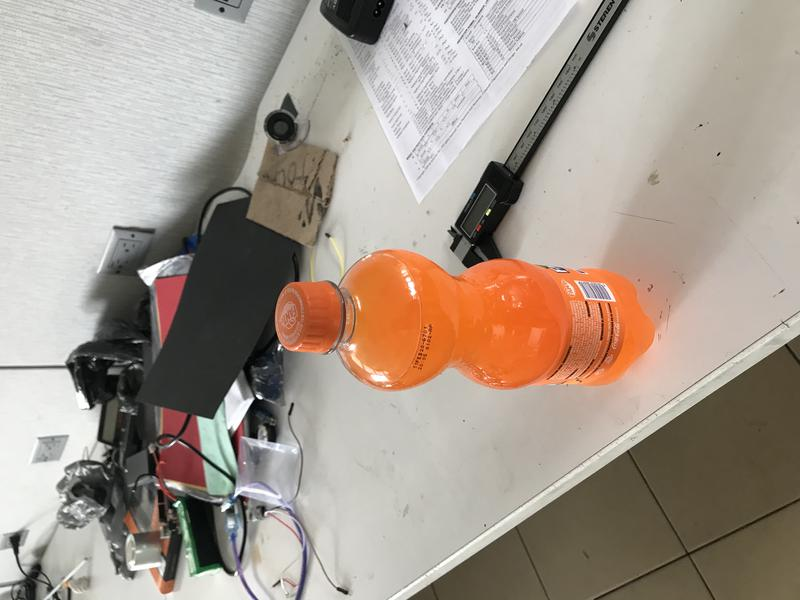fanta: (275, 249, 657, 392)
